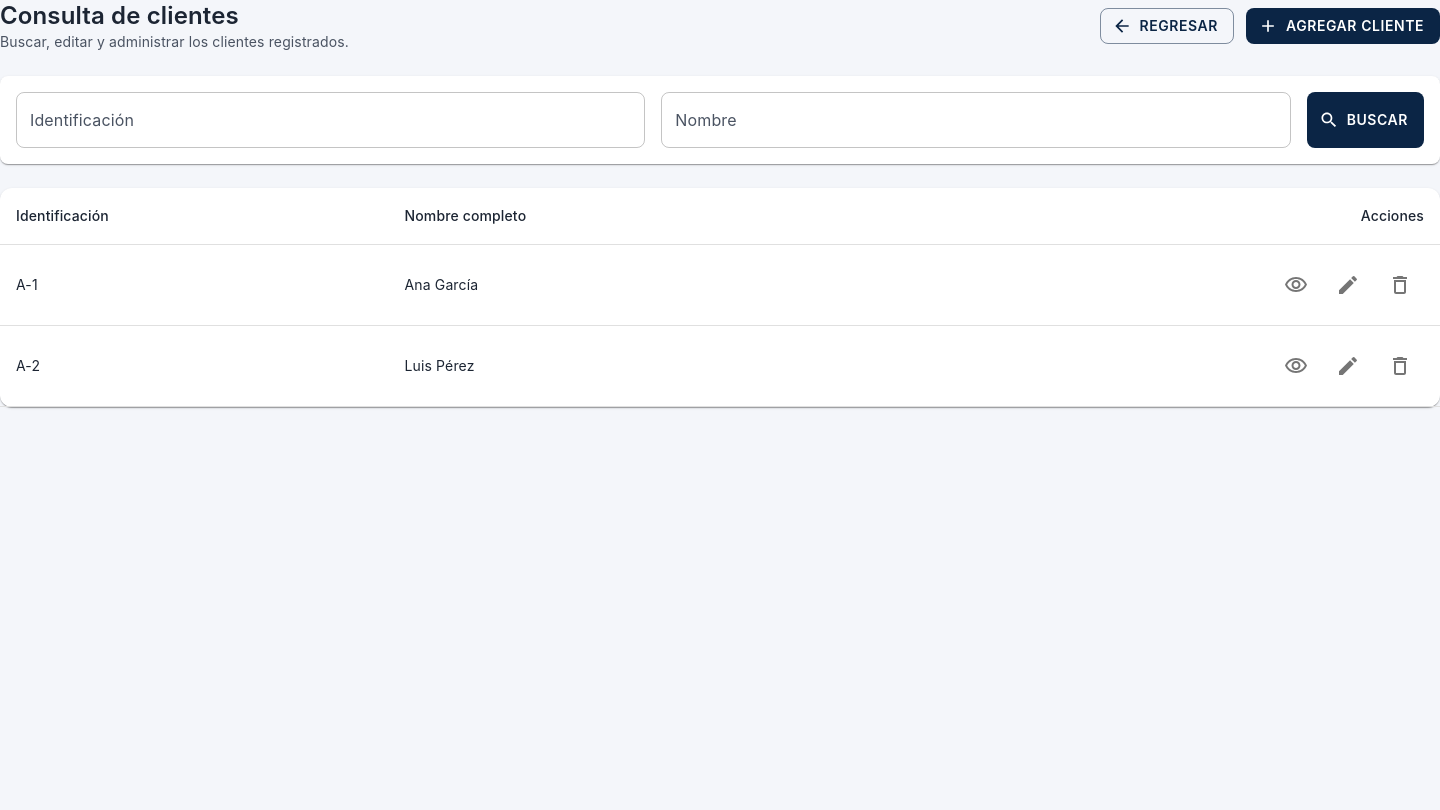
Test: ClientsListPage › asks for confirmation before deleting but keeps the row and shows an info message
The width and height of the screenshot is (1440, 810).
Expected: the row with test id "client-row-1" is shown, top-left (0, 244), bottom-right (1439, 326)
Click the button with test id "client-delete-1": (1400, 285) top-left (1376, 261), bottom-right (1424, 309)
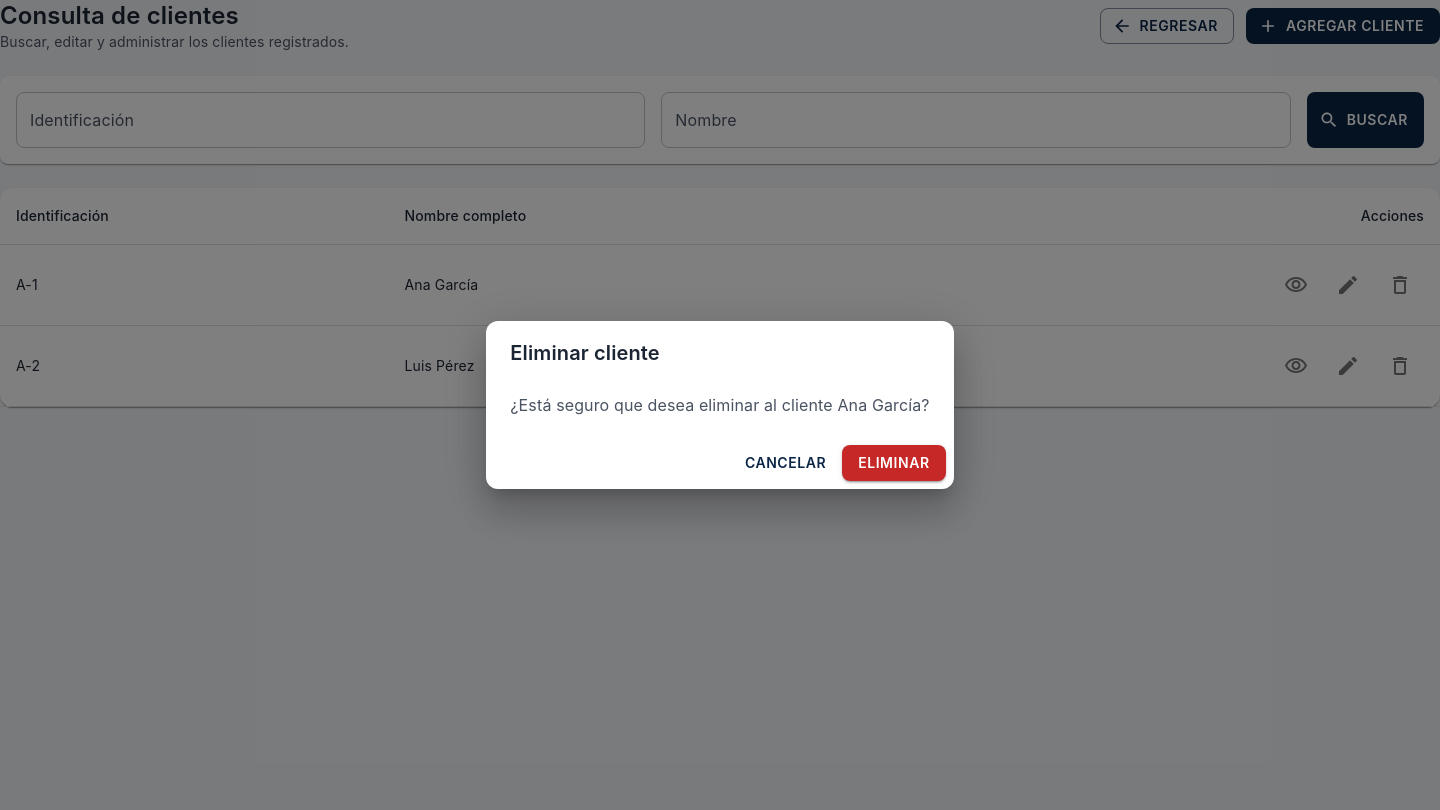
Expected: the text "¿Está seguro que desea eliminar al cliente Ana García?" is shown, top-left (510, 393), bottom-right (930, 417)
Click the button with test id "confirm-dialog-confirm": (894, 463) top-left (842, 445), bottom-right (946, 481)
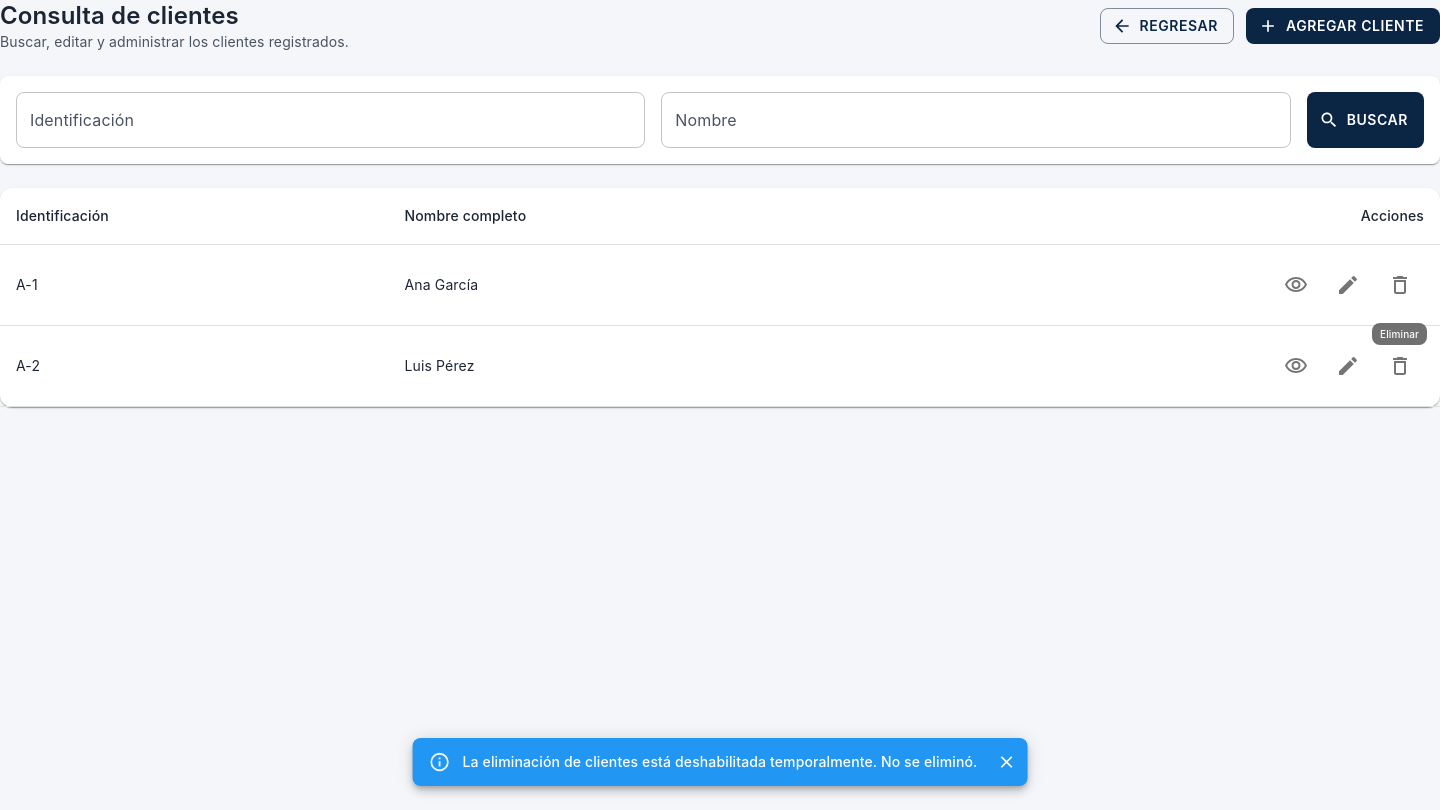
Expected: the row with test id "client-row-1" is shown, top-left (0, 244), bottom-right (1439, 326)
Expected: the text "La eliminación de clientes está deshabilitada temporalmente" is shown, top-left (463, 753), bottom-right (978, 770)
